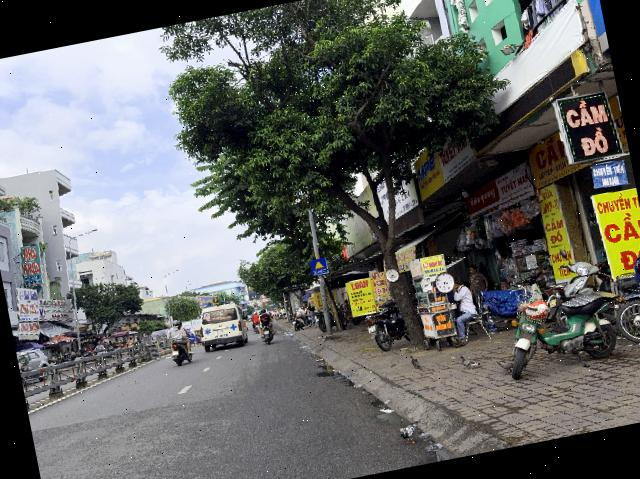khu-vuc-cho-phia-truoc: (309, 256, 328, 276)
